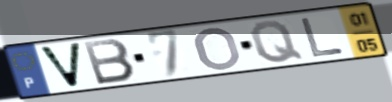7: (144, 27, 182, 81)
B: (81, 37, 138, 87)
L: (298, 16, 348, 59)
O: (193, 26, 244, 72)
Q: (247, 19, 307, 65)
V: (35, 41, 84, 90)
